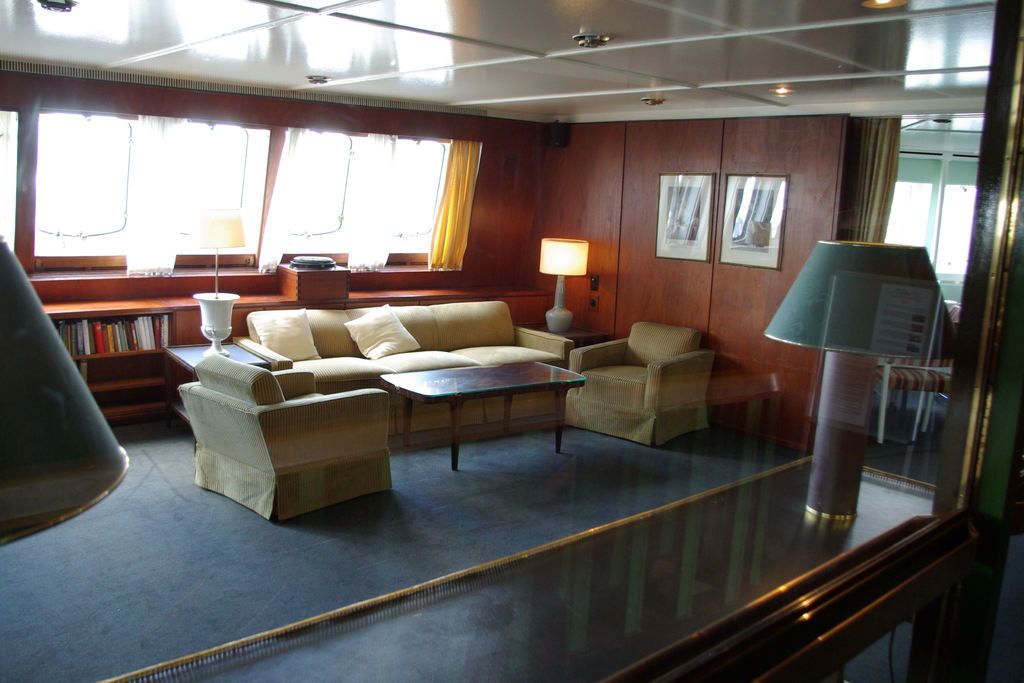Table: (374, 352, 590, 473)
